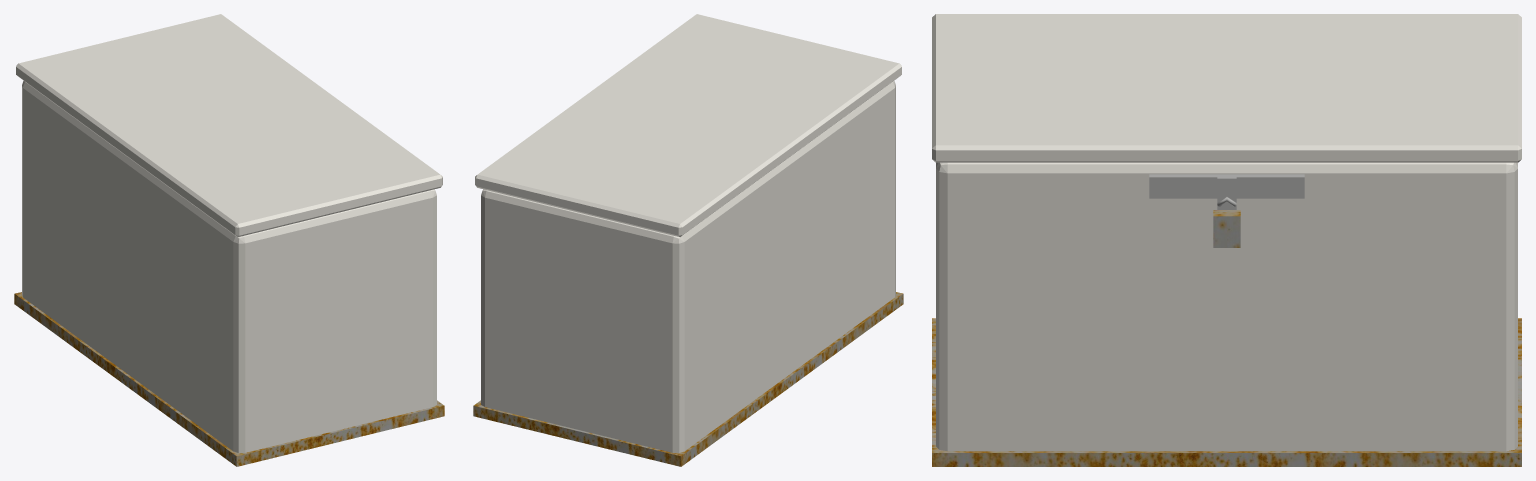
Rendered from chest_freezer.glb.
3 renders of one model, left to right at view 1: azimuth 30°, elevation 25°; view 2: azimuth 150°, elevation 25°; view 3: azimuth 270°, elevation 25°, orthographic. The views are drawn at different scales.
Visible parts, largest first — view 1: chest_freezer; view 2: chest_freezer; view 3: chest_freezer.
Boxes of the visible parts, x1,y1,x2,y2 form: chest_freezer: (14, 14, 444, 466); chest_freezer: (473, 14, 903, 466); chest_freezer: (932, 14, 1521, 466).
Size of the model in its own units: 0.89 by 0.91 by 1.52.
Materials: 3 (1 with a texture image).
